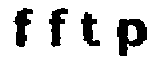f: (11, 7, 35, 53), (49, 6, 73, 52)
p: (115, 13, 149, 60)
t: (79, 10, 104, 50)
